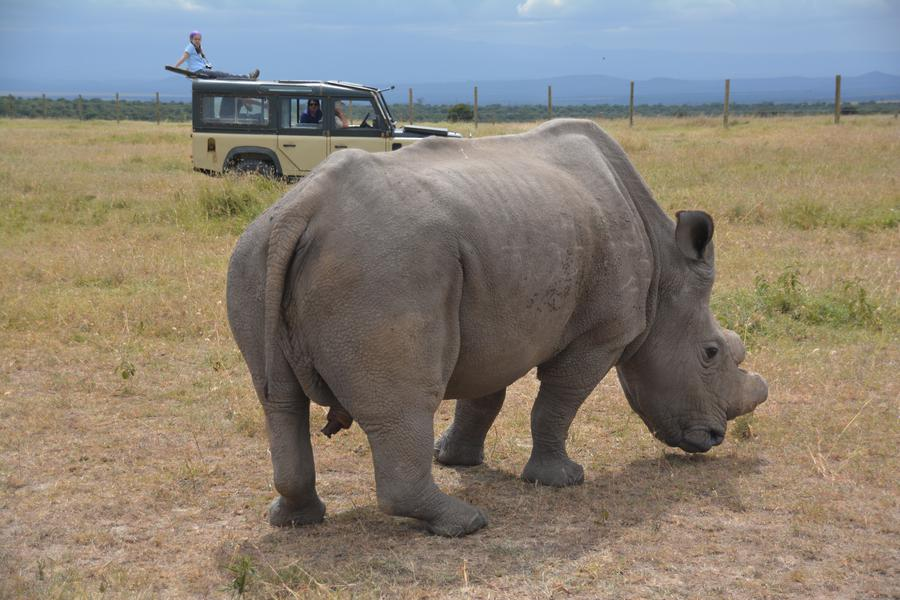rhino: (195, 107, 775, 487)
